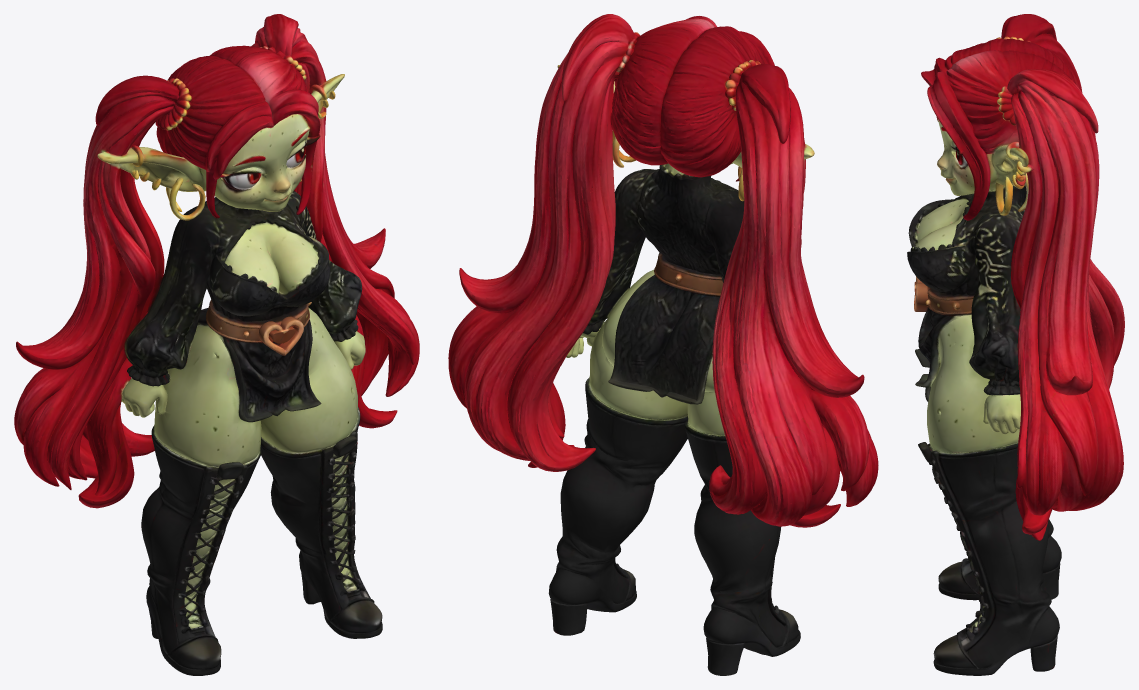
The model's file is oficina-3d-rubia.glb.
The picture shows the model from 3 angles, left to right: view 1: azimuth 30°, elevation 25°; view 2: azimuth 150°, elevation 25°; view 3: azimuth 270°, elevation 25°; orthographic projection. The views are drawn at different scales.
Parts seen in each view (by area): view 1: model; view 2: model; view 3: model.
Part boxes in pixels (bbox=[...]): model: bbox=[14, 14, 419, 675]; model: bbox=[448, 14, 878, 675]; model: bbox=[907, 14, 1124, 675].
Size of the model in its own units: 1.31 by 1.89 by 0.6421.
1 material, 1 textured.
